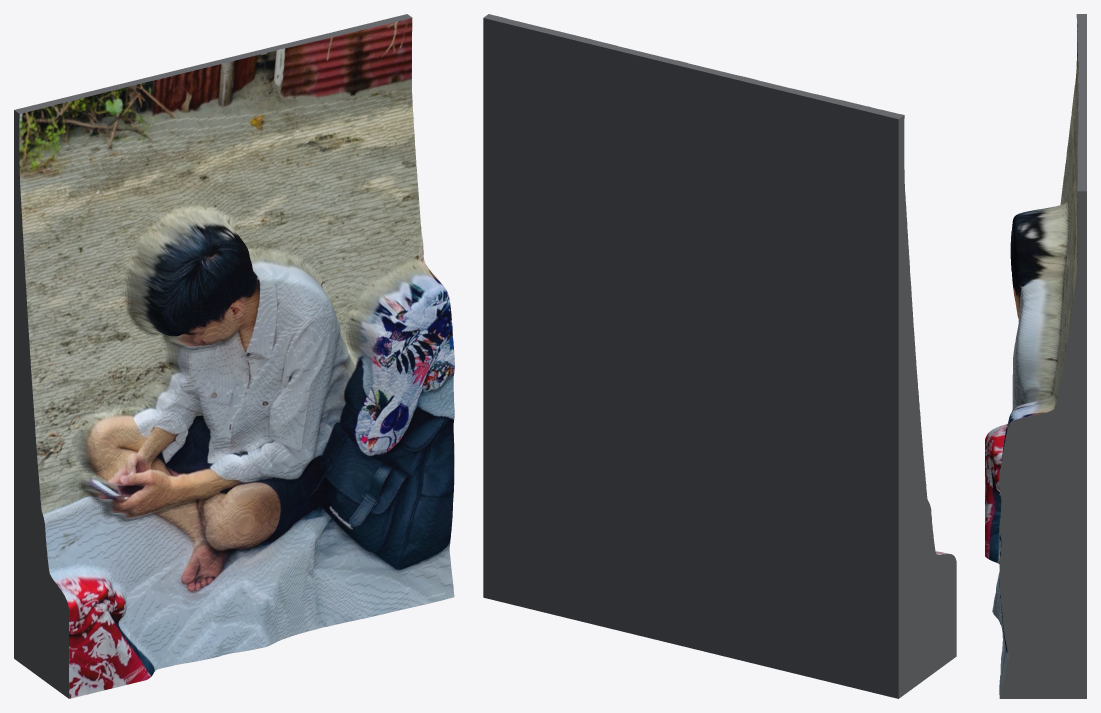
File: photo_3d.glb
3 renders of one model, left to right at view 1: azimuth 30°, elevation 25°; view 2: azimuth 150°, elevation 25°; view 3: azimuth 270°, elevation 25°, orthographic. The views are drawn at different scales.
Parts seen in each view (by area): view 1: photo_relief, sides; view 2: back, sides; view 3: sides, photo_relief.
Boxes of the visible parts, <box> form: photo_relief: <box>19,18,454,698</box>; sides: <box>14,14,412,698</box>; back: <box>483,18,898,698</box>; sides: <box>483,14,956,698</box>; sides: <box>999,14,1086,698</box>; photo_relief: <box>985,16,1078,698</box>.
Size of the model in its own units: 2.25 by 3 by 0.545.
1 material, 1 textured.
